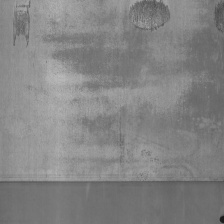rolled_pit: (120, 0, 177, 40), (8, 0, 40, 46), (210, 1, 224, 38)
